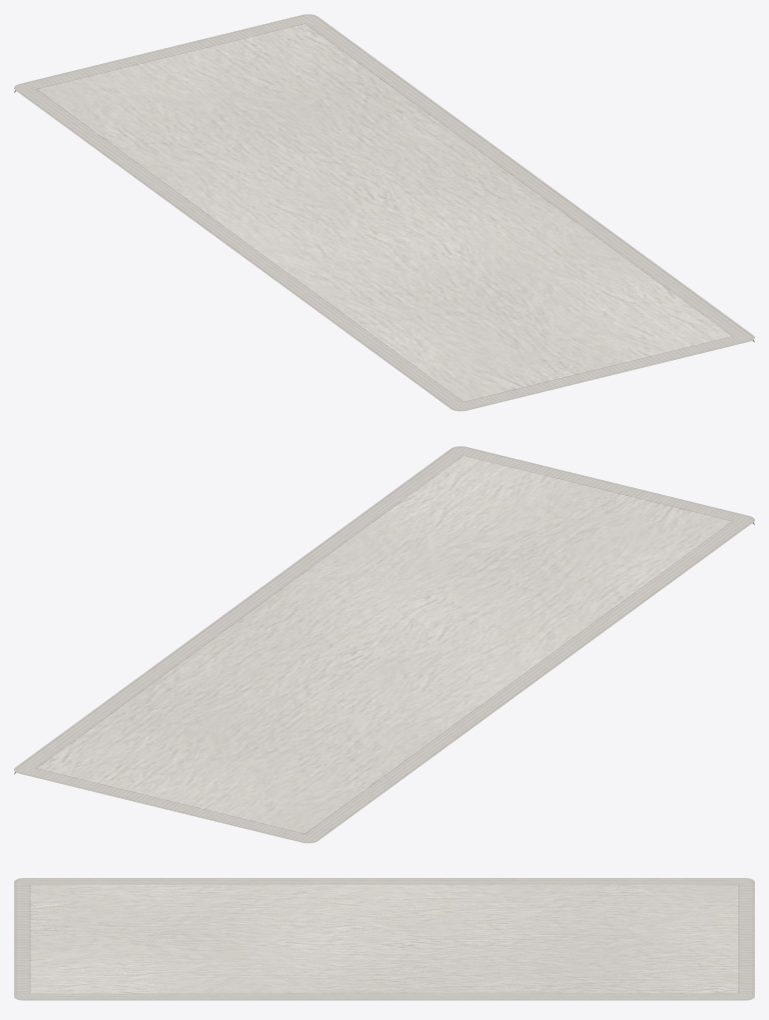
File: ivory_kitchen.glb
3 views of the same model, one above another, from view 1: azimuth 30°, elevation 25°; view 2: azimuth 150°, elevation 25°; view 3: azimuth 270°, elevation 25° (orthographic). The views are drawn at different scales.
Visible parts, largest first — view 1: reliv_ivory_kitchen; view 2: reliv_ivory_kitchen; view 3: reliv_ivory_kitchen.
Boxes of the visible parts, box(x1,y1,x2,y2) form: reliv_ivory_kitchen: box(14, 14, 754, 411); reliv_ivory_kitchen: box(14, 446, 754, 843); reliv_ivory_kitchen: box(14, 878, 754, 1000).
Size of the model in its own units: 0.45 by 0.009 by 1.15.
Materials: 2 (1 with a texture image).
